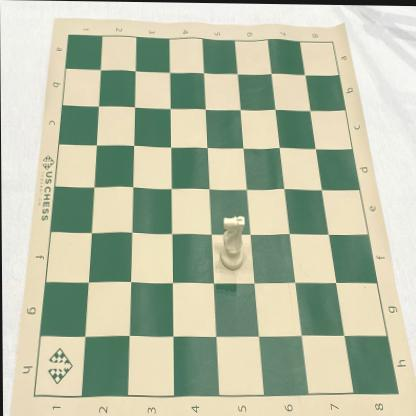white-knight: (219, 215, 245, 271)
